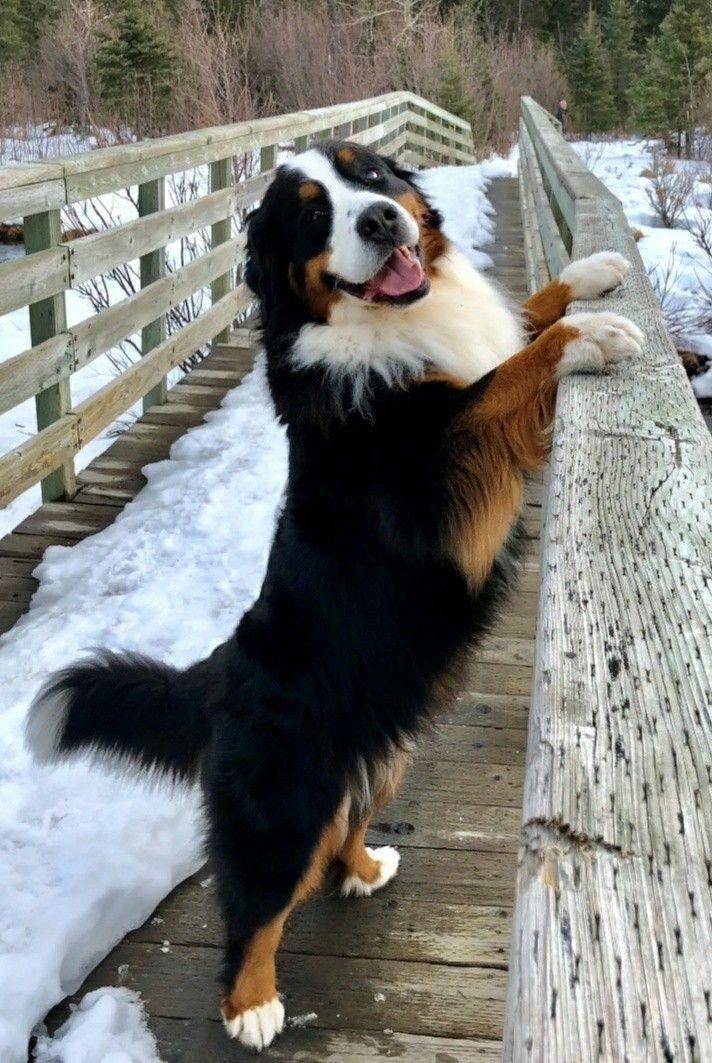dog: (28, 142, 641, 1047)
